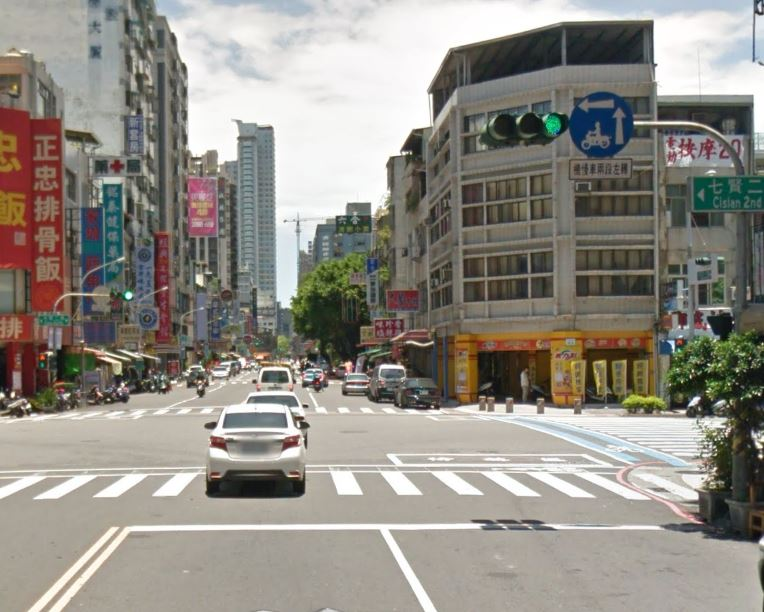Traffic_light_green: (483, 111, 566, 147)
car: (204, 402, 314, 503)
